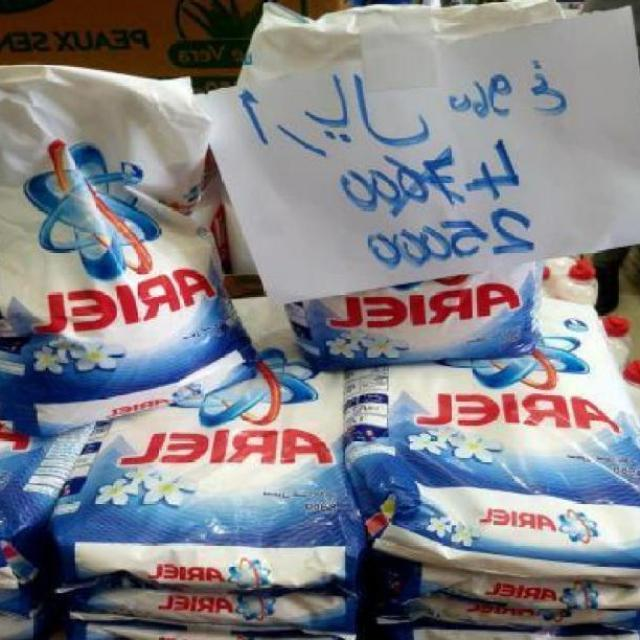Detergent: (0, 63, 226, 414), (369, 326, 640, 564), (76, 373, 364, 586), (303, 273, 538, 376)
